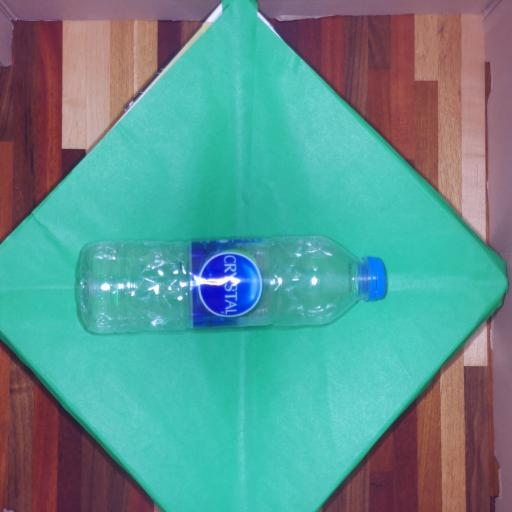bottle: (72, 232, 394, 338)
